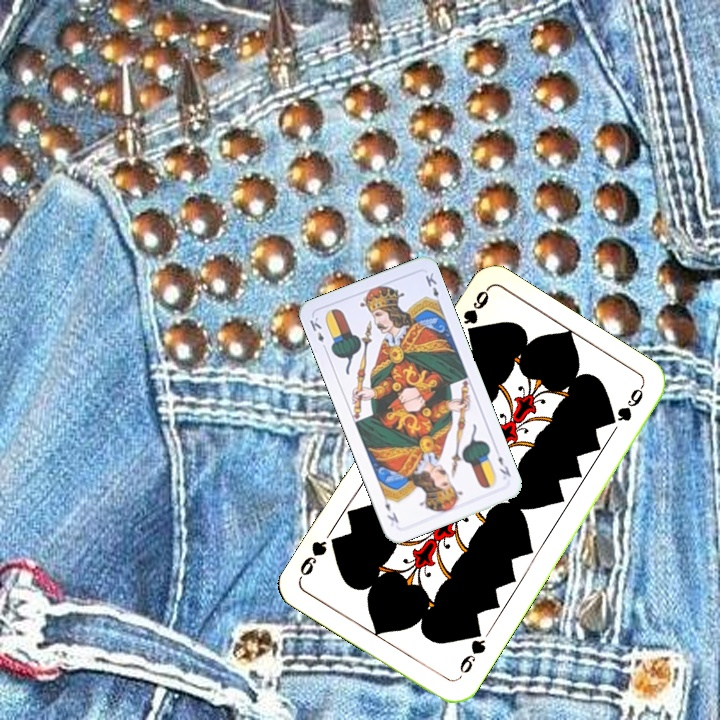EK: (305, 313, 330, 353), (494, 452, 514, 479)
G9: (458, 285, 492, 338), (455, 624, 489, 676)
